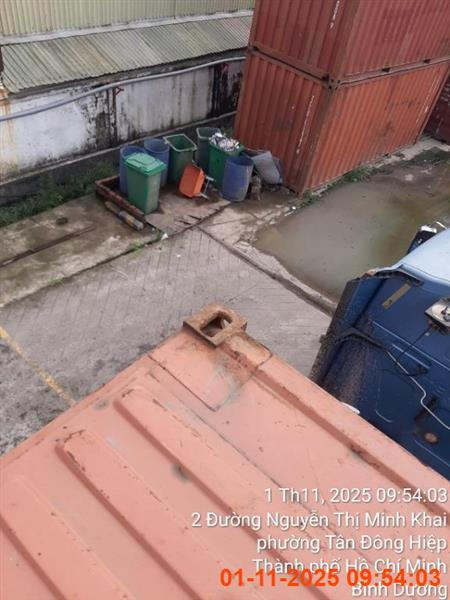broken: (0, 301, 449, 599), (307, 222, 449, 480)
